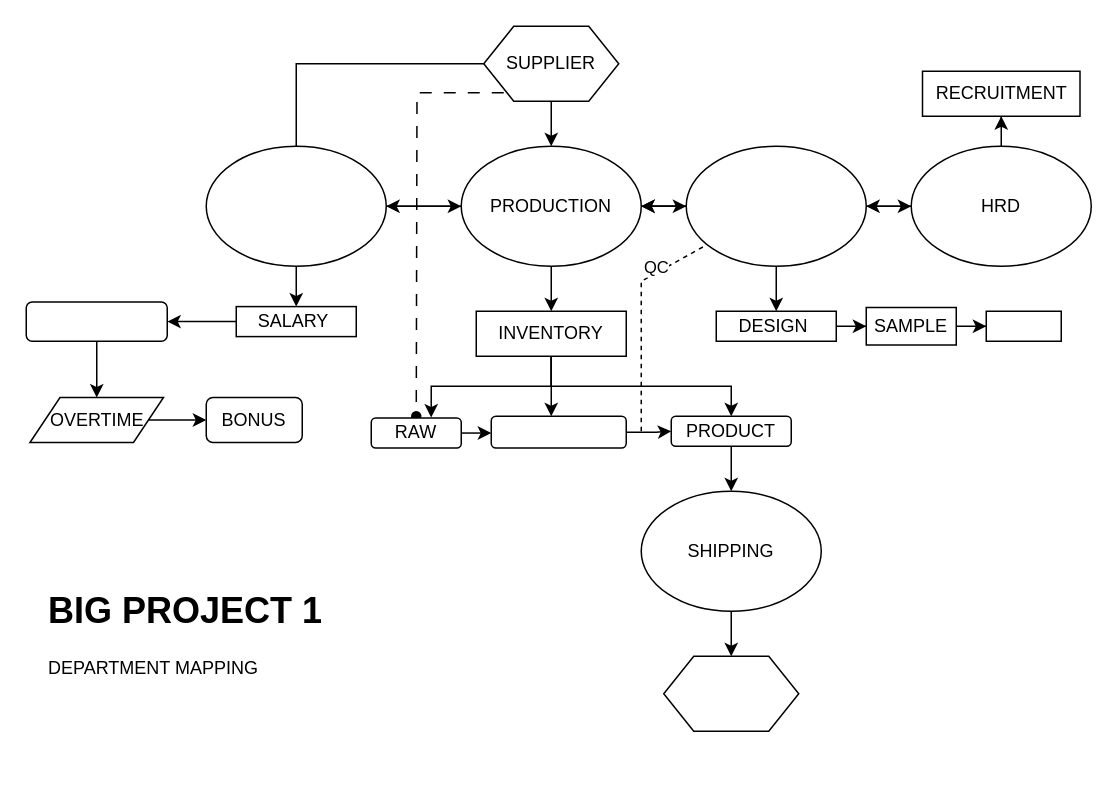
Some shapes in this 1118 by 788 pixel diagram are drawn without their labels. The centre of each missing label's shape, as x and y in pixels:
ACCOUNTING: [295,205]
ATTANDANCE: [96,320]
CONSUMER: [730,693]
ENGINEERING: [775,205]
PROCESSED: [558,431]
TEST: [1023,325]
